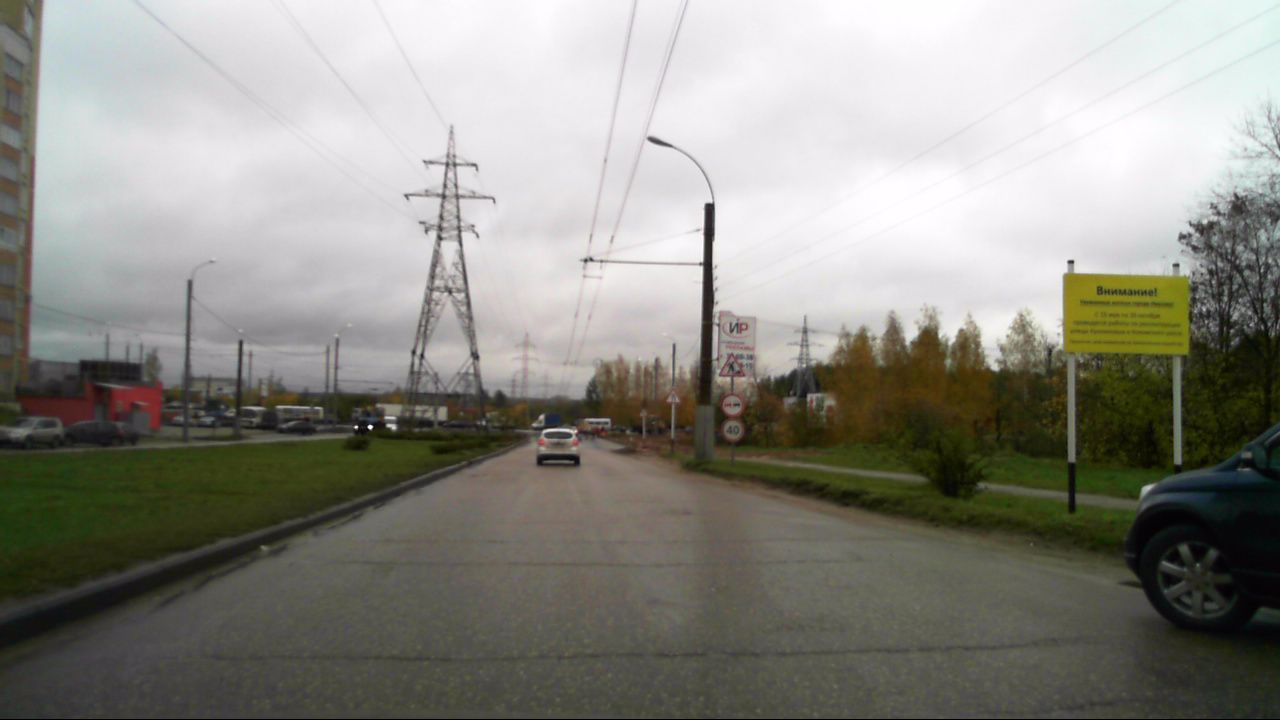speed_warning_40: (722, 418, 744, 441)
